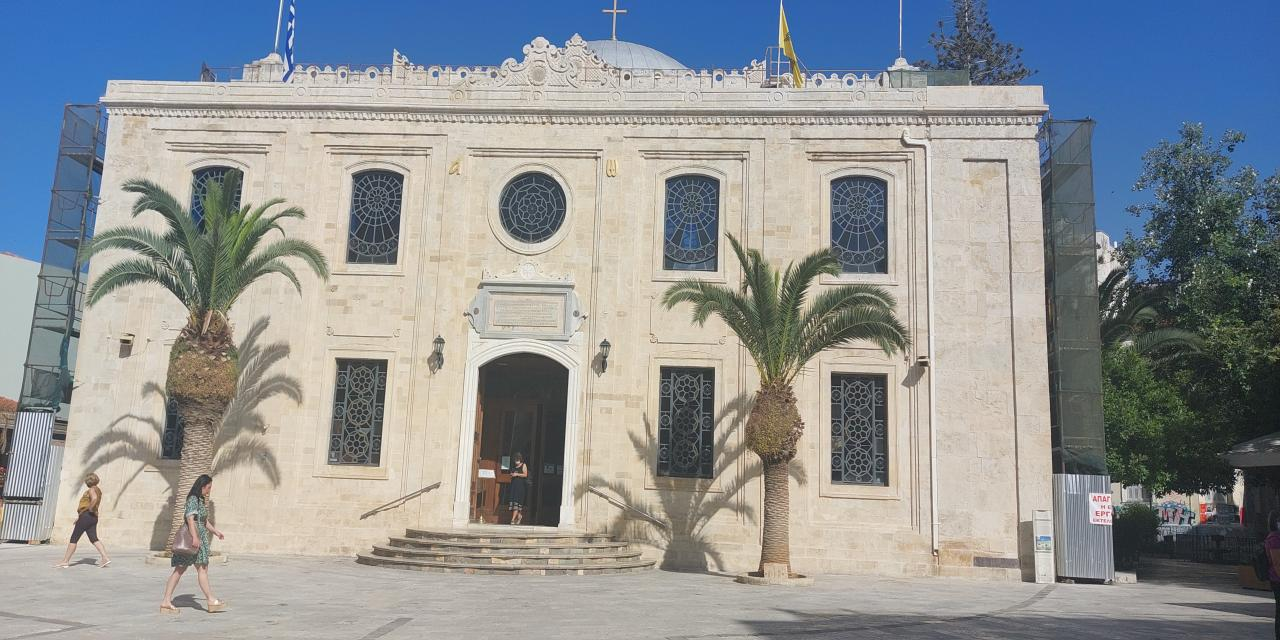Agios Titos: (49, 18, 1057, 573)
